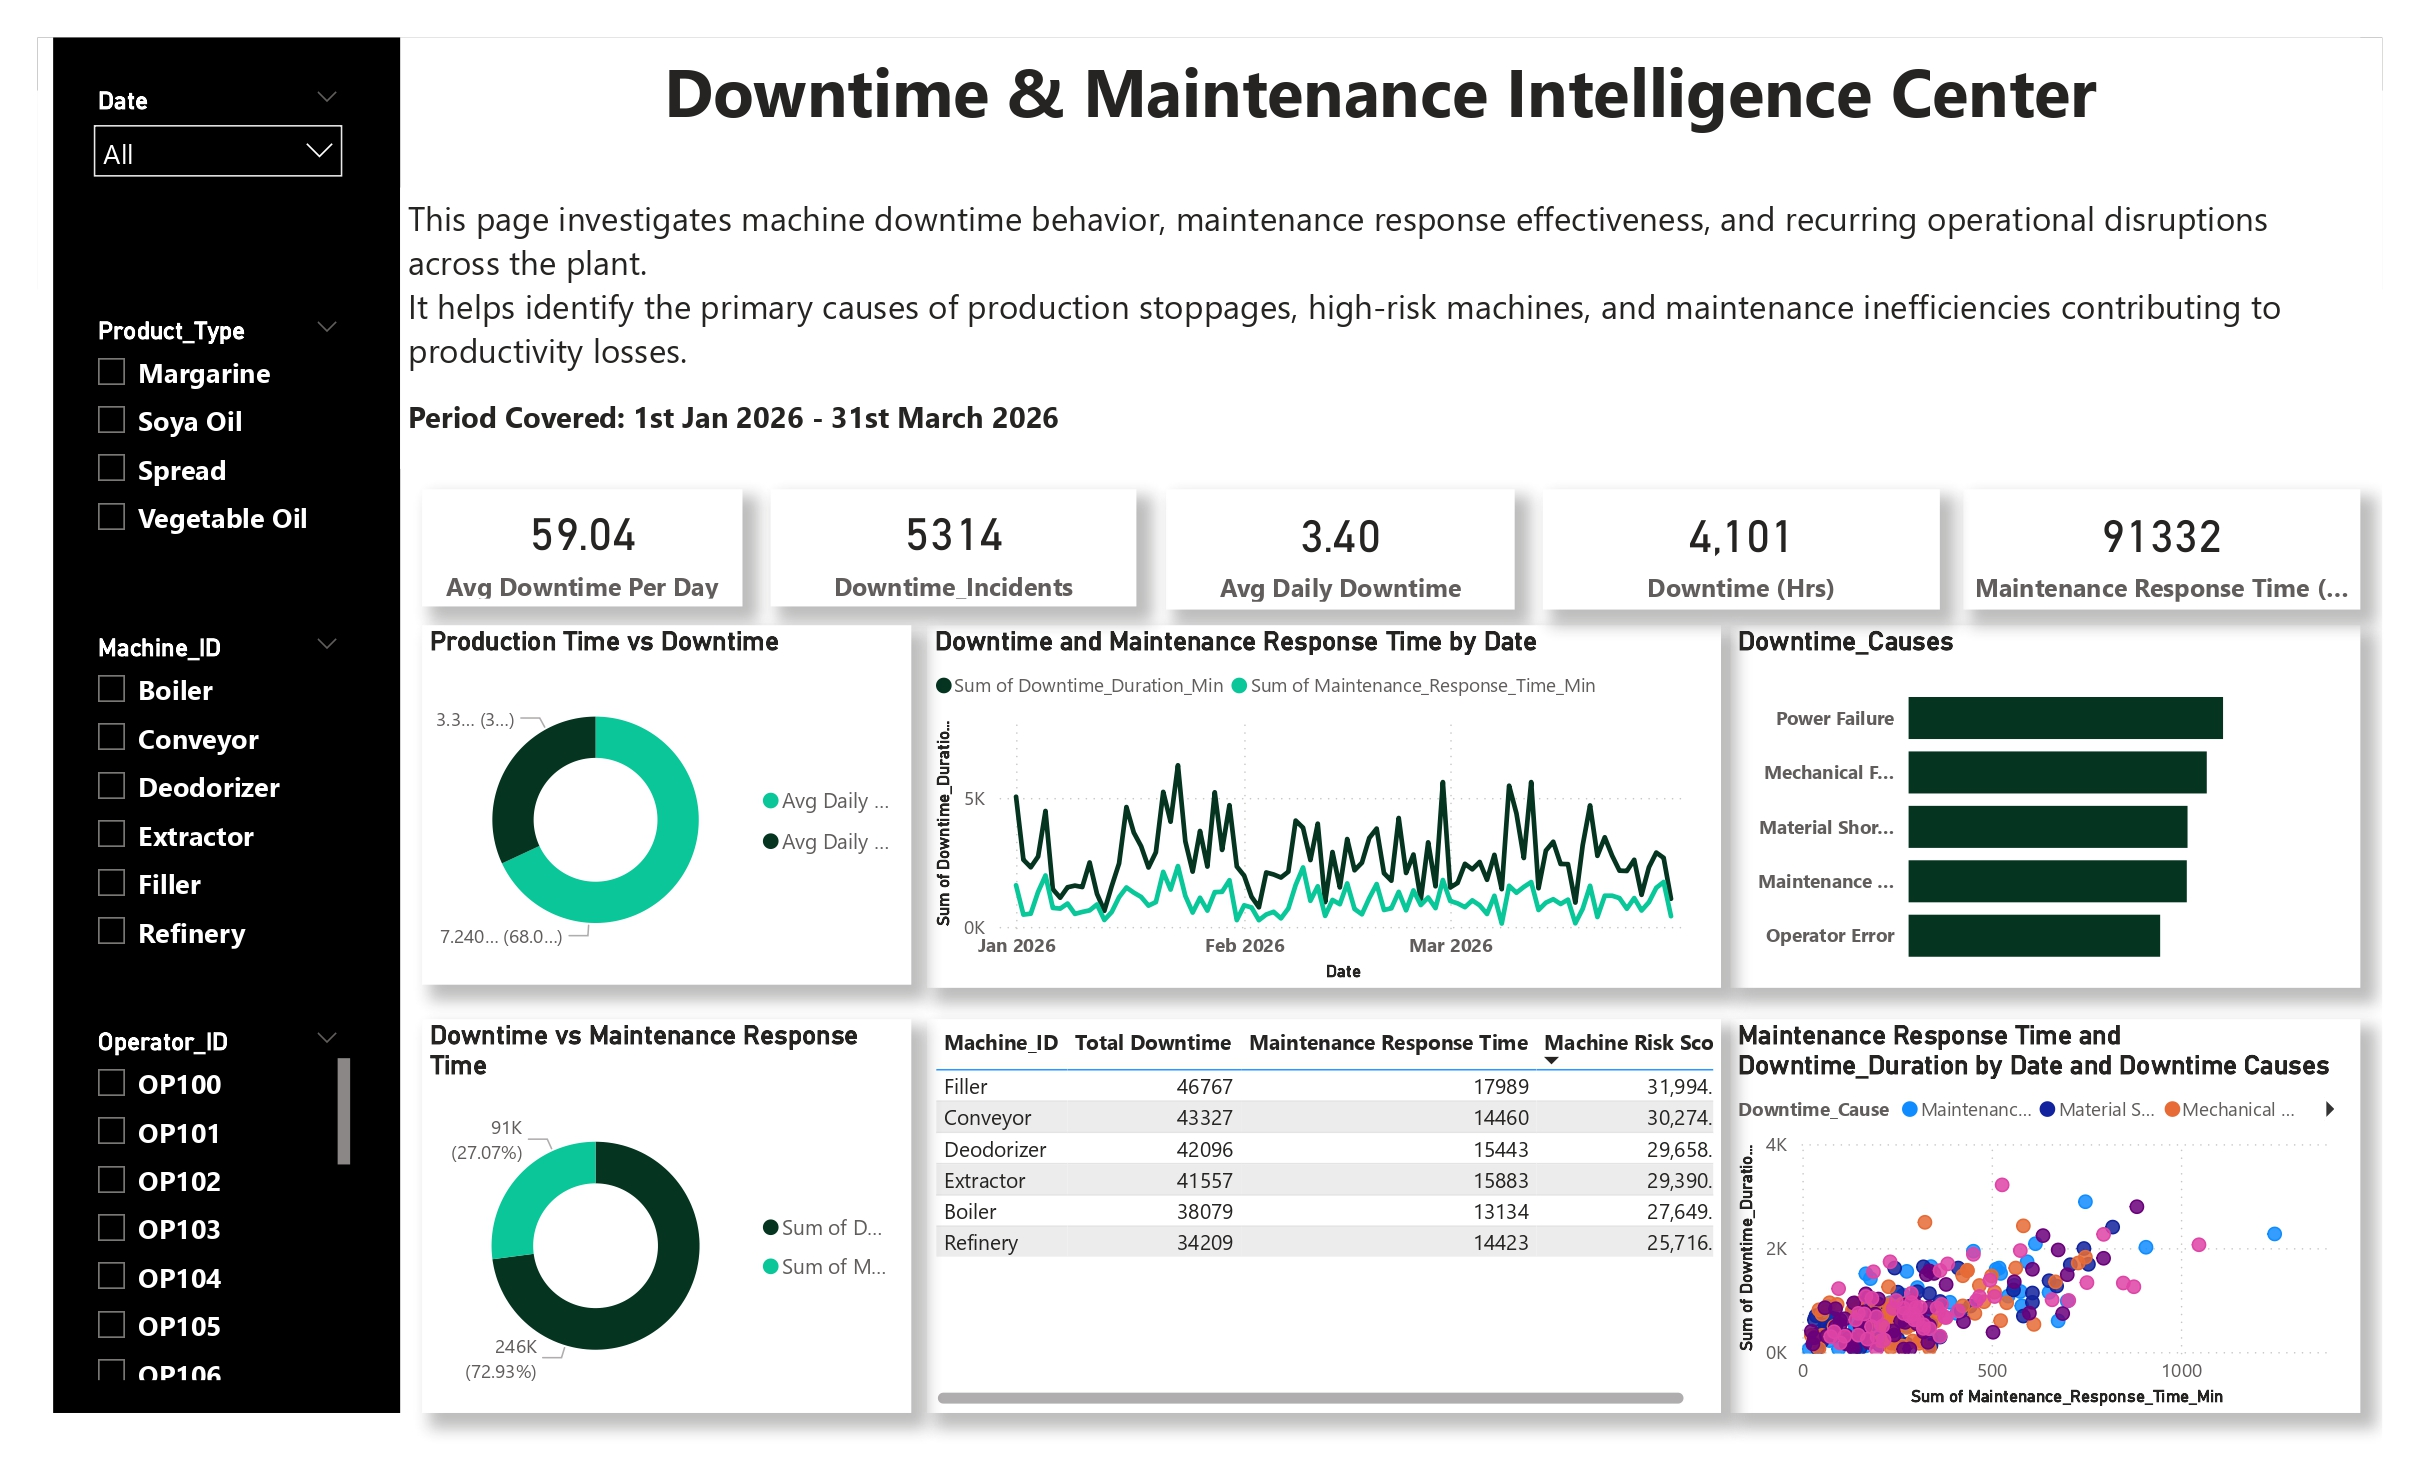

The dashboard page shown, as its layout file describes it:
{"tool":"powerbi","page":{"name":"Downtime and Maintenance","canvas":[1500,900],"ordinal":2},"visuals":[{"type":"textbox","box":[232.3,0,1253.9,96.5],"z":0},{"type":"card","fields":{"Values":["Downtime_Data.Avg Daily Downtime"]},"box":[722.4,289.4,222.4,76.8],"z":1000},{"type":"clusteredBarChart","title":"Downtime_Causes","fields":{"Category":["Downtime_Data.Downtime_Cause"],"Y":["CountNonNull(Downtime_Data.Downtime_Cause)"]},"box":[1082.7,376,403.5,232.3],"z":2000},{"type":"scatterChart","title":"Maintenance Response Time and Downtime_Duration by Date and Downtime Causes","fields":{"X":["Sum(Downtime_Data.Maintenance_Response_Time_Min)"],"Series":["Downtime_Data.Downtime_Cause"],"Category":["Downtime_Data.Date"],"Y":["Sum(Downtime_Data.Downtime_Duration_Min)"]},"box":[1082.7,628,403.5,252],"z":3000},{"type":"card","fields":{"Values":["Sum(Downtime_Data.Maintenance_Response_Time_Min)"]},"box":[1232.3,289.4,253.9,76.8],"z":4000},{"type":"tableEx","title":"Total Downtime_Incidents by Date","fields":{"Values":["Downtime_Data.Machine_ID","Downtime_Data.Total Downtime","Sum(Downtime_Data.Maintenance_Response_Time_Min)","Downtime_Data.Machine Risk Score"]},"box":[568.9,628,507.9,252],"z":5000},{"type":"donutChart","title":"Downtime vs Maintenance Response Time","fields":{"Y":["Sum(Downtime_Data.Downtime_Duration_Min)","Sum(Downtime_Data.Maintenance_Response_Time_Min)"]},"box":[246.1,628,313,252],"z":6000},{"type":"lineChart","title":"Downtime and Maintenance Response Time by Date","fields":{"Category":["Downtime_Data.Date"],"Y":["Sum(Downtime_Data.Downtime_Duration_Min)","Sum(Downtime_Data.Maintenance_Response_Time_Min)"]},"box":[568.9,376,507.9,232.3],"z":7000},{"type":"card","fields":{"Values":["Operator_Performance.Avg Downtime Per Day"]},"box":[246.1,289.4,204.7,74.8],"z":8000},{"type":"card","fields":{"Values":["Sum(Operator_Performance.Downtime_Incidents)"]},"box":[468.5,289.4,234.3,74.8],"z":9000},{"type":"donutChart","title":"Production Time vs Downtime","fields":{"Y":["Production_Data.Avg Daily Production Hours","Downtime_Data.Avg Daily Downtime"]},"box":[246.1,376,313,230.3],"z":10000},{"type":"card","fields":{"Values":["Sum(Downtime_Data.Downtime_Duration_Hour)"]},"box":[962.6,289.4,253.9,76.8],"z":11000},{"type":"textbox","box":[9.8,0,222.4,879.9],"z":12000},{"type":"slicer","fields":{"Values":["Downtime_Data.Date"]},"box":[25.6,25.6,179.1,114.2],"z":13000},{"type":"slicer","fields":{"Values":["Downtime_Data.Product_Type"]},"box":[25.6,173.2,179.1,190.9],"z":14000},{"type":"slicer","fields":{"Values":["Downtime_Data.Machine_ID"]},"box":[25.6,376,179.1,232.3],"z":15000},{"type":"slicer","fields":{"Values":["Operator_Performance.Operator_ID"]},"box":[25.6,628,179.1,236.2],"z":16000},{"type":"textbox","box":[232.3,96.5,1228.3,179.1],"z":17000}]}

Visuals, with their boxes on the page's 1500x900 design canvas (x1, y1, x2, y2). These are canvas units, not pixel positions in the 2420x1482 screenshot, which may show the page scaled, cropped or inside an application window:
textbox: region(232, 0, 1486, 96)
card - Downtime_Data.Avg Daily Downtime: region(722, 289, 945, 366)
"Downtime_Causes" clusteredBarChart: region(1083, 376, 1486, 608)
"Maintenance Response Time and Downtime_Duration by Date and Downtime Causes" scatterChart: region(1083, 628, 1486, 880)
card - Sum(Downtime_Data.Maintenance_Response_Time_Min): region(1232, 289, 1486, 366)
"Total Downtime_Incidents by Date" tableEx: region(569, 628, 1077, 880)
"Downtime vs Maintenance Response Time" donutChart: region(246, 628, 559, 880)
"Downtime and Maintenance Response Time by Date" lineChart: region(569, 376, 1077, 608)
card - Operator_Performance.Avg Downtime Per Day: region(246, 289, 451, 364)
card - Sum(Operator_Performance.Downtime_Incidents): region(468, 289, 703, 364)
"Production Time vs Downtime" donutChart: region(246, 376, 559, 606)
card - Sum(Downtime_Data.Downtime_Duration_Hour): region(963, 289, 1216, 366)
textbox: region(10, 0, 232, 880)
slicer - Downtime_Data.Date: region(26, 26, 205, 140)
slicer - Downtime_Data.Product_Type: region(26, 173, 205, 364)
slicer - Downtime_Data.Machine_ID: region(26, 376, 205, 608)
slicer - Operator_Performance.Operator_ID: region(26, 628, 205, 864)
textbox: region(232, 96, 1461, 276)
